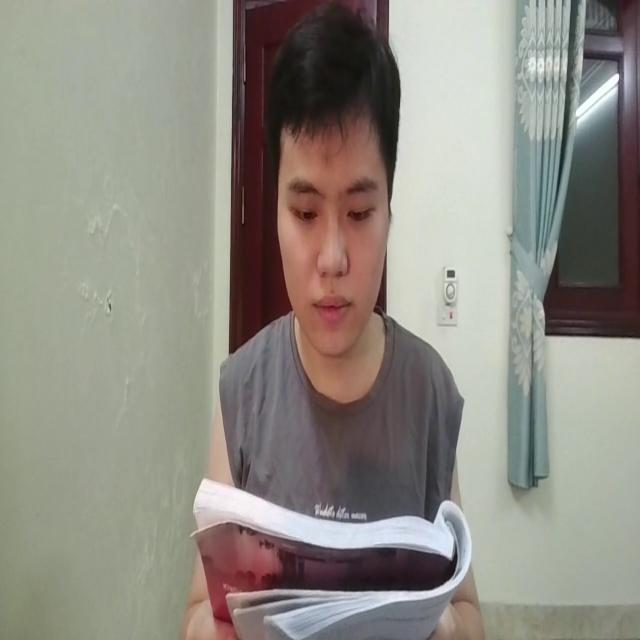book: (194, 464, 472, 640)
student: (167, 3, 482, 640)
